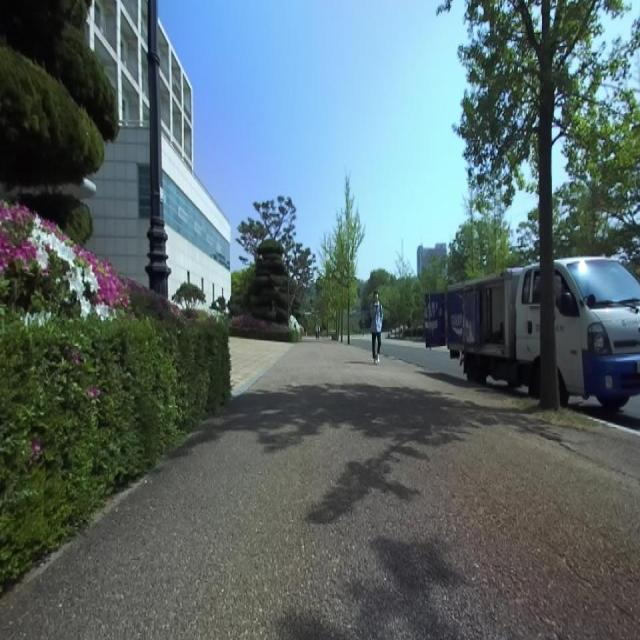sidewalk: (0, 340, 640, 639)
